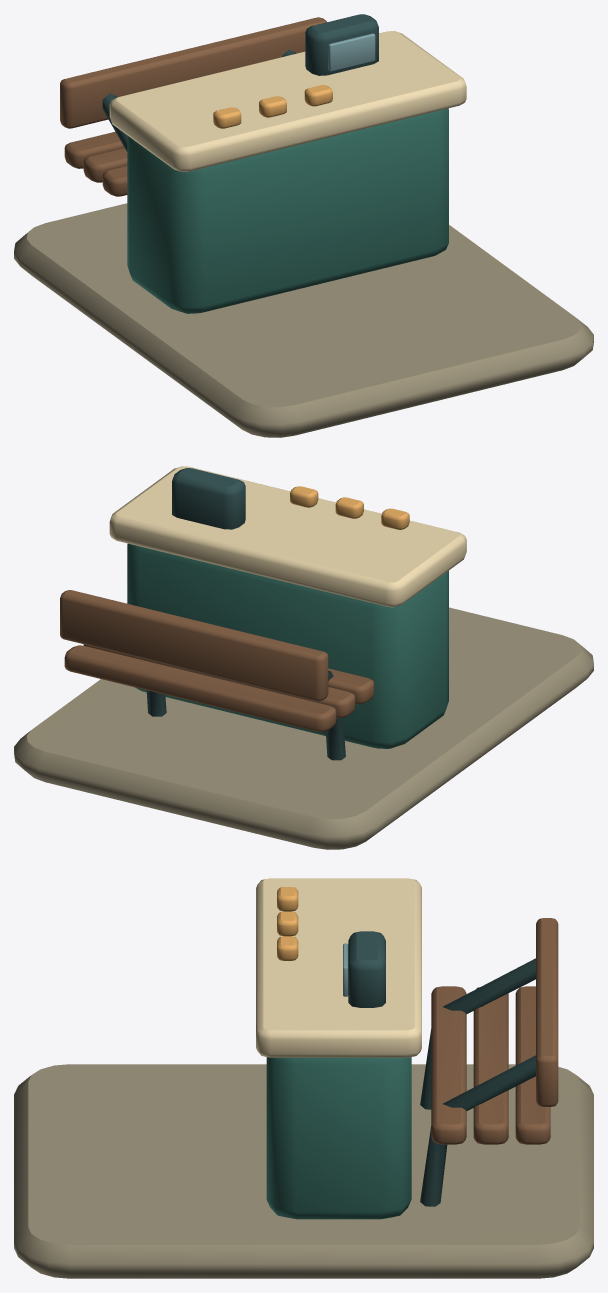
File: tropical_scooters_1.glb
3 views of the same model, one above another, from view 1: azimuth 30°, elevation 25°; view 2: azimuth 150°, elevation 25°; view 3: azimuth 270°, elevation 25° (orthographic). The views are drawn at different scales.
Visible parts, largest first — view 1: TropicalScooters1; view 2: TropicalScooters1; view 3: TropicalScooters1.
Boxes of the visible parts, <box> form: TropicalScooters1: <box>14,14,593,437</box>; TropicalScooters1: <box>14,466,593,849</box>; TropicalScooters1: <box>14,878,593,1278</box>.
Size of the model in its own units: 1.95 by 1.32 by 2.48.
